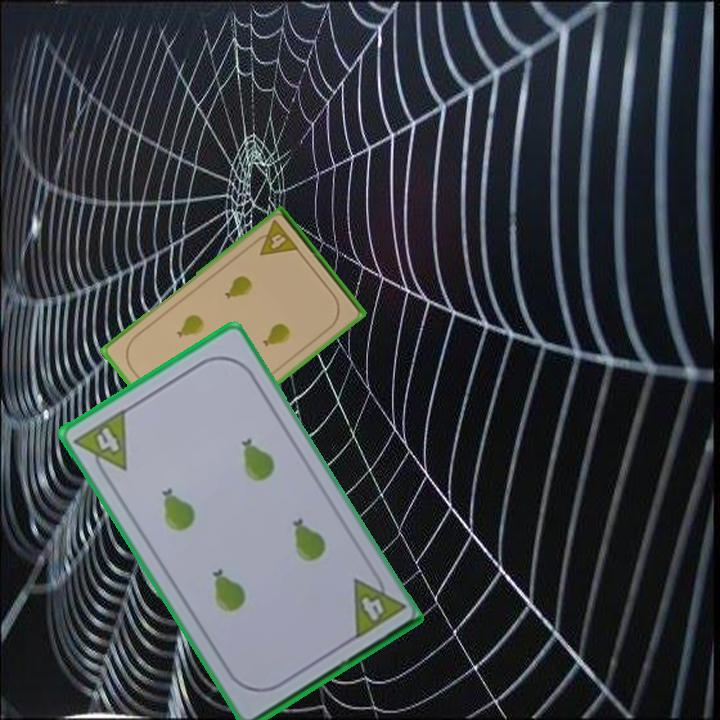4p: (70, 405, 130, 484), (348, 565, 407, 643), (249, 217, 302, 259)
